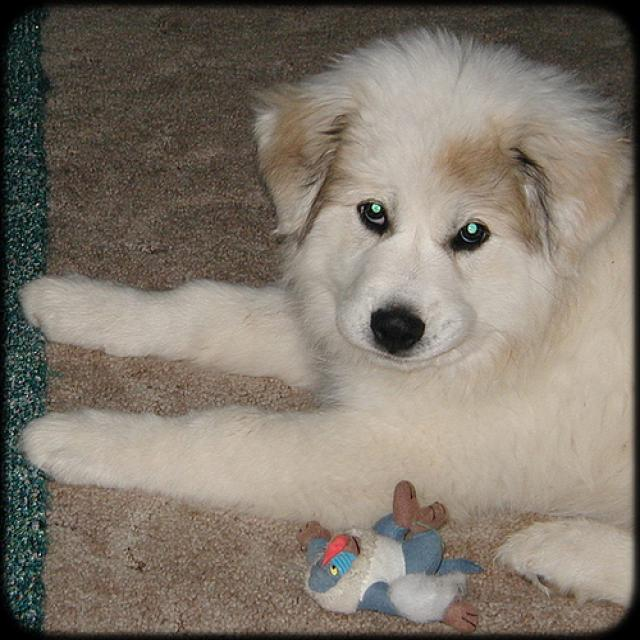dog-great_pyrenees: (8, 16, 637, 621)
